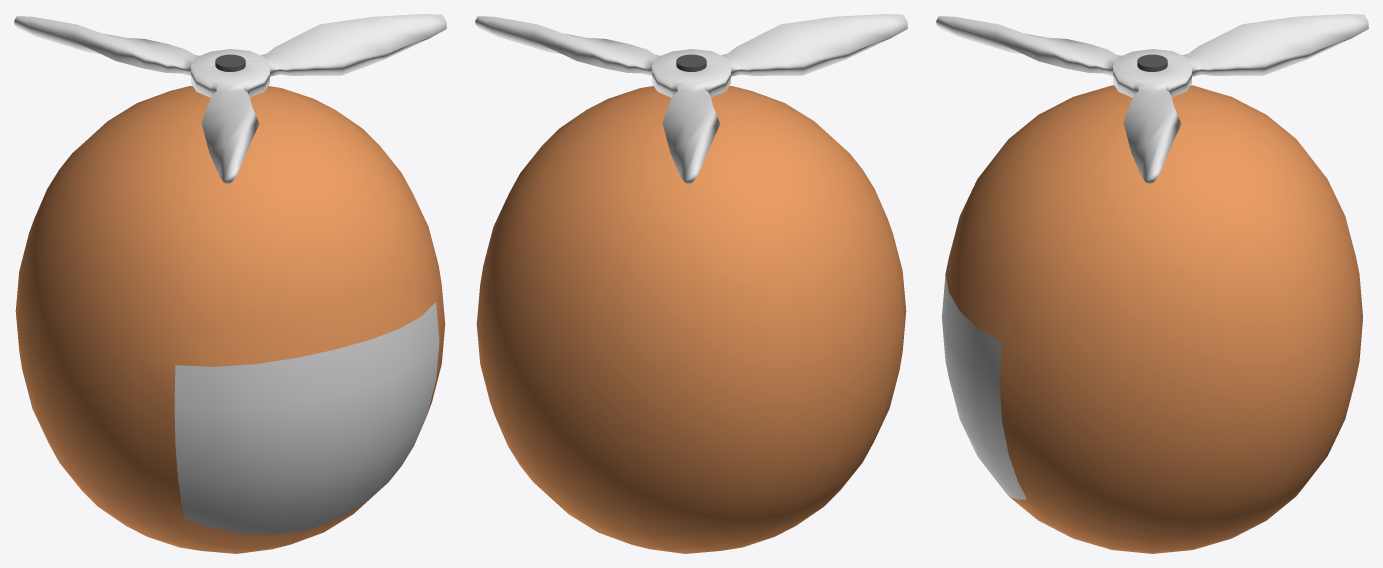
The model's file is enemy_a.glb.
The picture shows the model from 3 angles, left to right: view 1: azimuth 30°, elevation 25°; view 2: azimuth 150°, elevation 25°; view 3: azimuth 270°, elevation 25°; orthographic projection.
Parts seen in each view (by area): view 1: head, face, Cylinder.002; view 2: head, Cylinder.002; view 3: head, Cylinder.002, face.
Part boxes in pixels (bbox=[...]): head: bbox=[15, 85, 445, 553]; face: bbox=[174, 302, 439, 534]; Cylinder.002: bbox=[14, 14, 446, 185]; head: bbox=[476, 85, 906, 553]; Cylinder.002: bbox=[475, 14, 907, 185]; head: bbox=[945, 85, 1362, 553]; Cylinder.002: bbox=[936, 14, 1368, 185]; face: bbox=[942, 274, 1026, 499].
Size of the model in its own units: 1.83 by 2.1 by 1.72.
